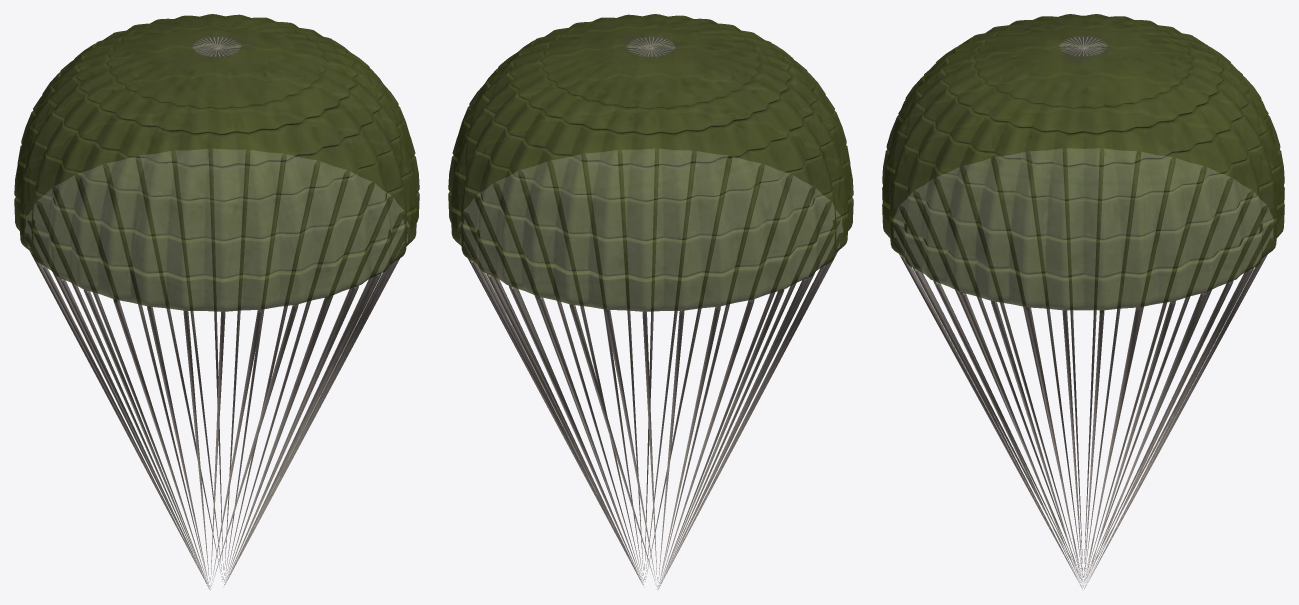
The model's file is parachute.glb.
The picture shows the model from 3 angles, left to right: view 1: azimuth 30°, elevation 25°; view 2: azimuth 150°, elevation 25°; view 3: azimuth 270°, elevation 25°; orthographic projection.
Visible parts, largest first — view 1: pSphere1; view 2: pSphere1; view 3: pSphere1.
Boxes of the visible parts, x1,y1,x2,y2 form: pSphere1: (14, 14, 419, 589); pSphere1: (448, 14, 853, 589); pSphere1: (882, 14, 1284, 590).
Size of the model in its own units: 1.35 by 2 by 1.35.
1 material, 1 textured.
